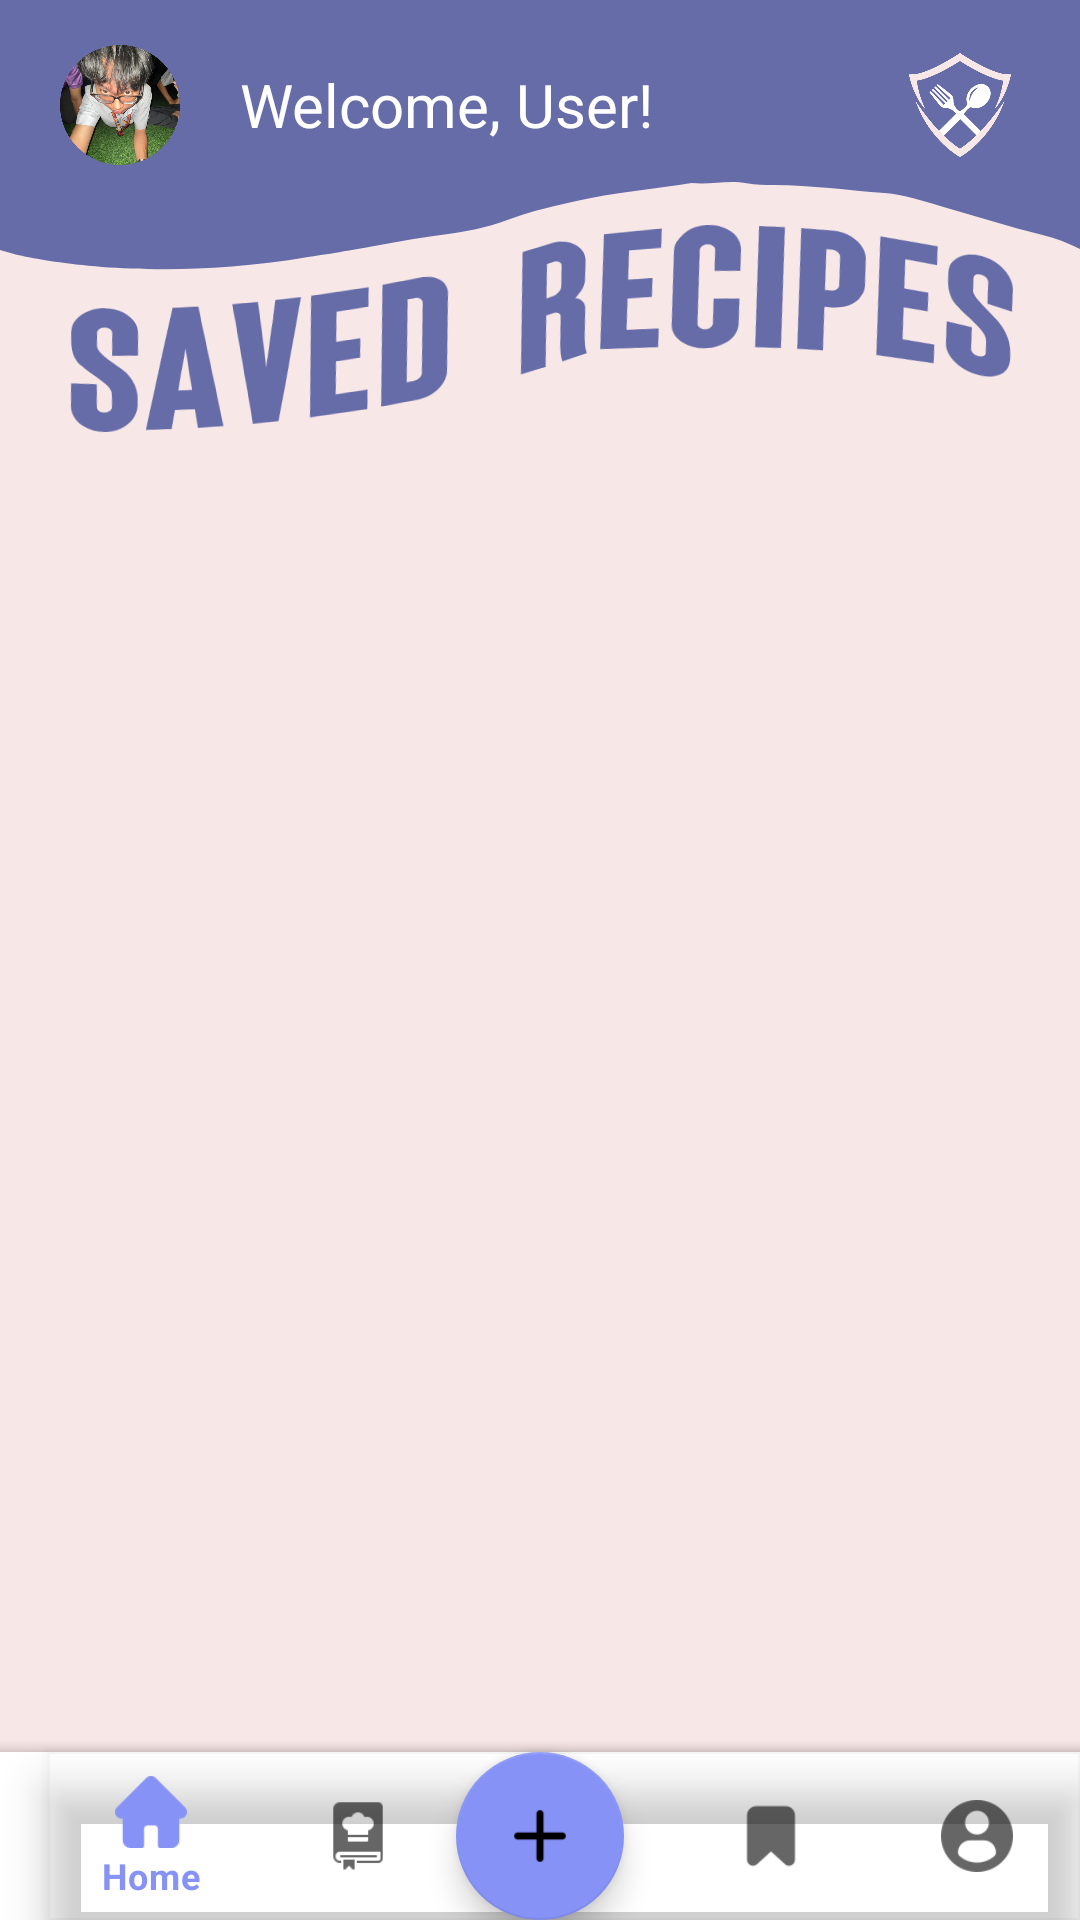

Point at icon controls on the screen. Image size 1080 x 1920, points as (x,y).
add: (540,1836)
